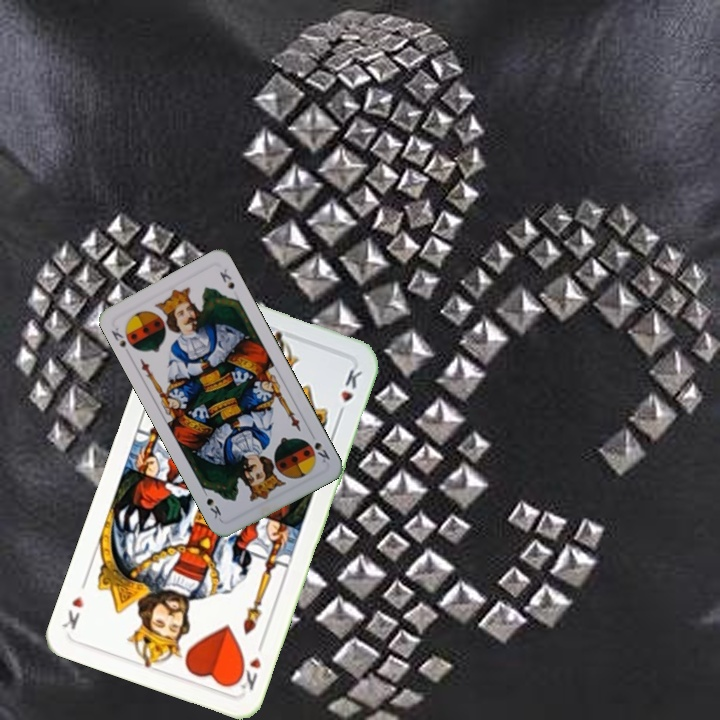HK: (231, 637, 267, 693)
SK: (306, 428, 333, 465), (107, 323, 128, 350)
